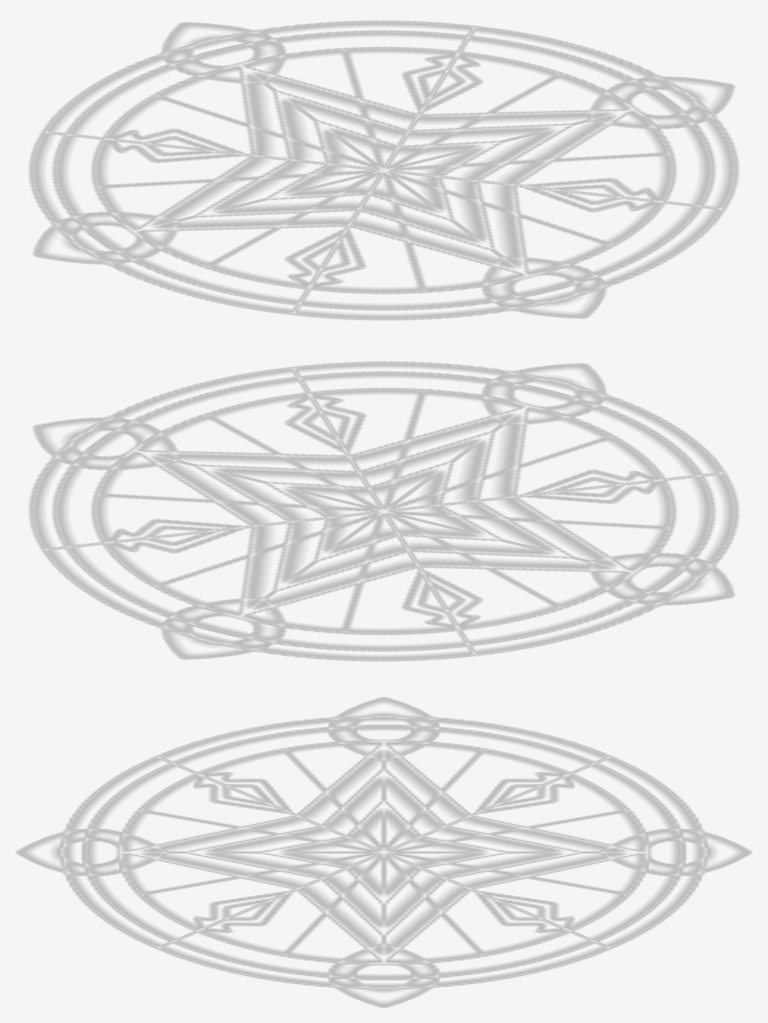
File: si_hex_1100.glb
3 views of the same model, one above another, from view 1: azimuth 30°, elevation 25°; view 2: azimuth 150°, elevation 25°; view 3: azimuth 270°, elevation 25° (orthographic). The views are drawn at different scales.
Visible parts, largest first — view 1: layer_00_si_hex_1100; view 2: layer_00_si_hex_1100; view 3: layer_00_si_hex_1100.
Boxes of the visible parts, <box> form: layer_00_si_hex_1100: <box>29,20,738,320</box>; layer_00_si_hex_1100: <box>29,361,738,661</box>; layer_00_si_hex_1100: <box>16,697,751,1007</box>.
Bounding box in the file's own units: 12800 × 0.000966 × 12800.
Materials: 1 (1 with a texture image).
